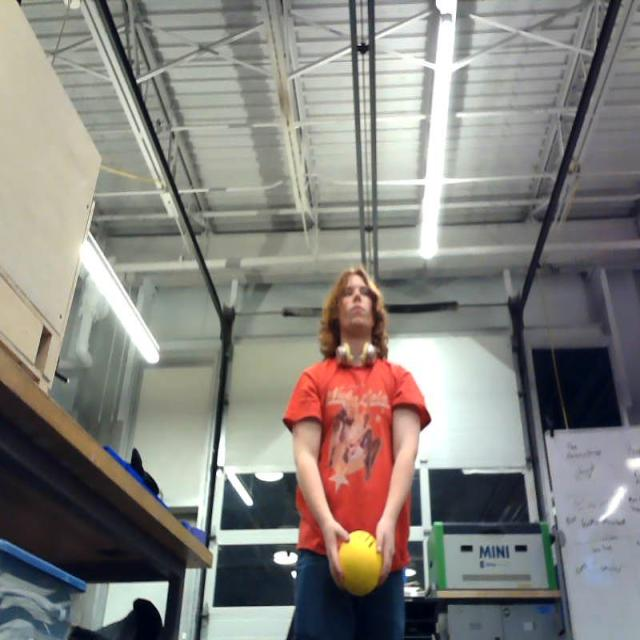Fuel: (335, 530, 383, 594)
